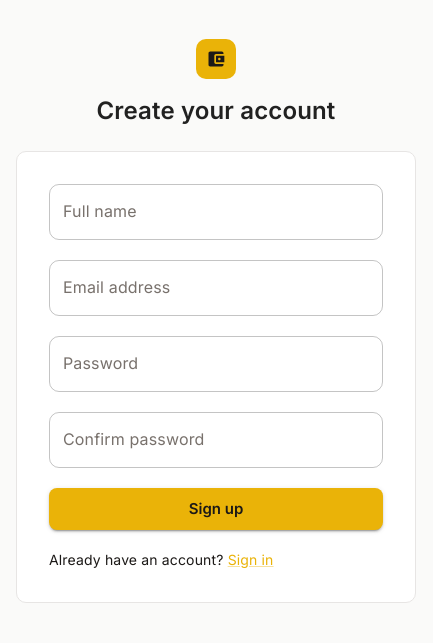
it: Register page › rejects a short password
In the field labelled "Full name": (216, 212) [49,184,383,240], type "Ada Lovelace"
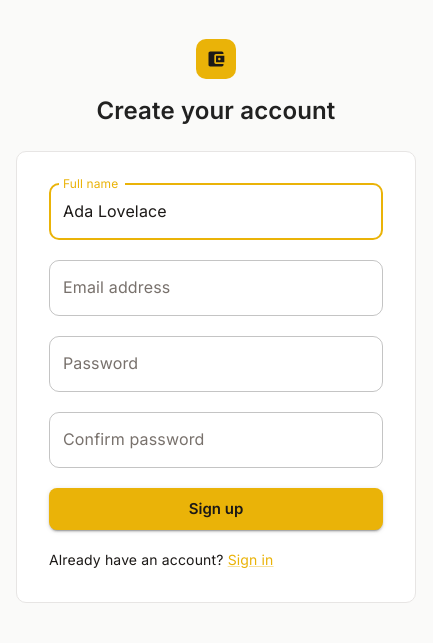
In the field labelled "Email address": (216, 288) [49,260,383,316], type "new@example.com"
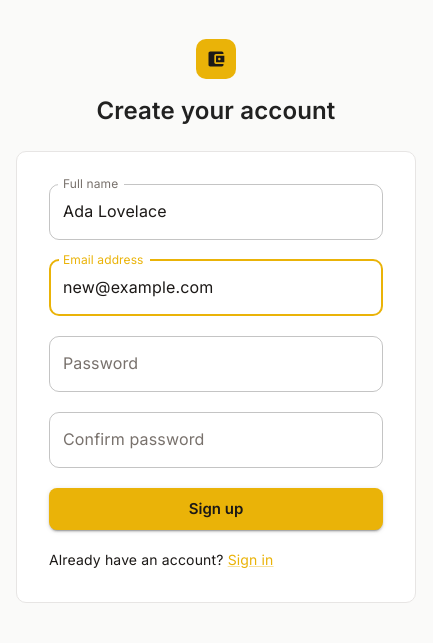
In the password field labelled "Password": (216, 364) [49,336,383,392], type "123"
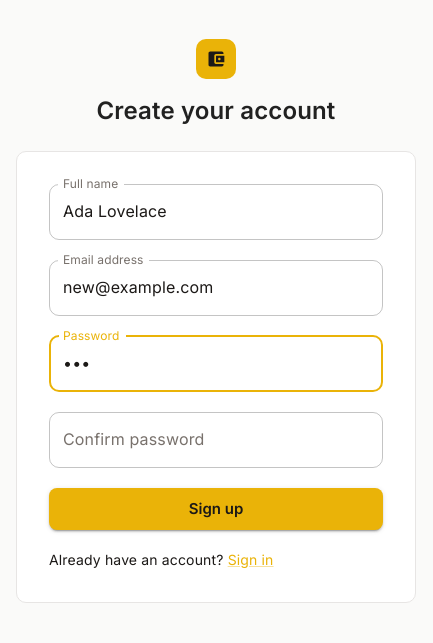
In the password field labelled "Confirm password": (216, 440) [49,412,383,468], type "123"
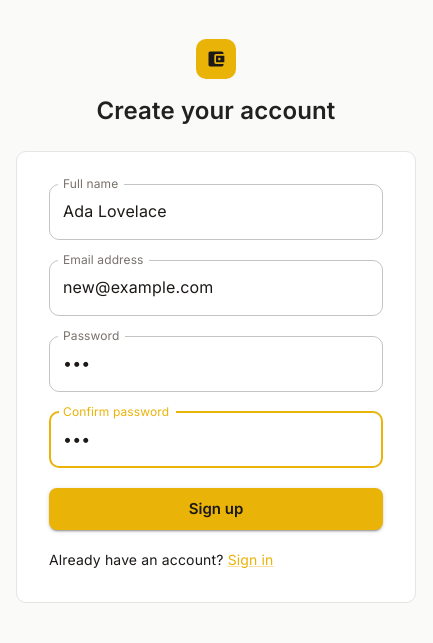
Click the button "Sign up": (216, 509) [49,488,383,530]
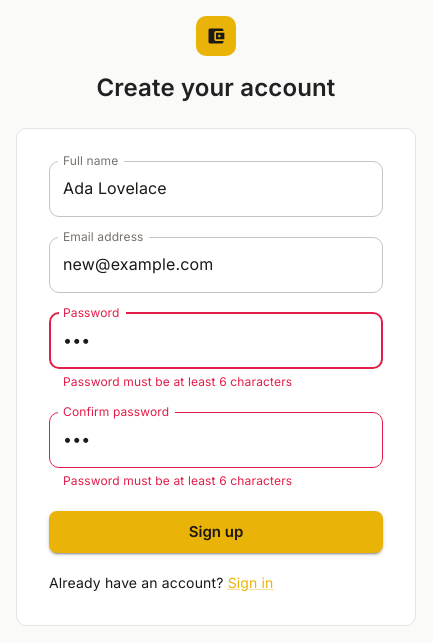
Result: the 1st text "Password must be at least 6 characters" is shown at [63,374,292,389]
